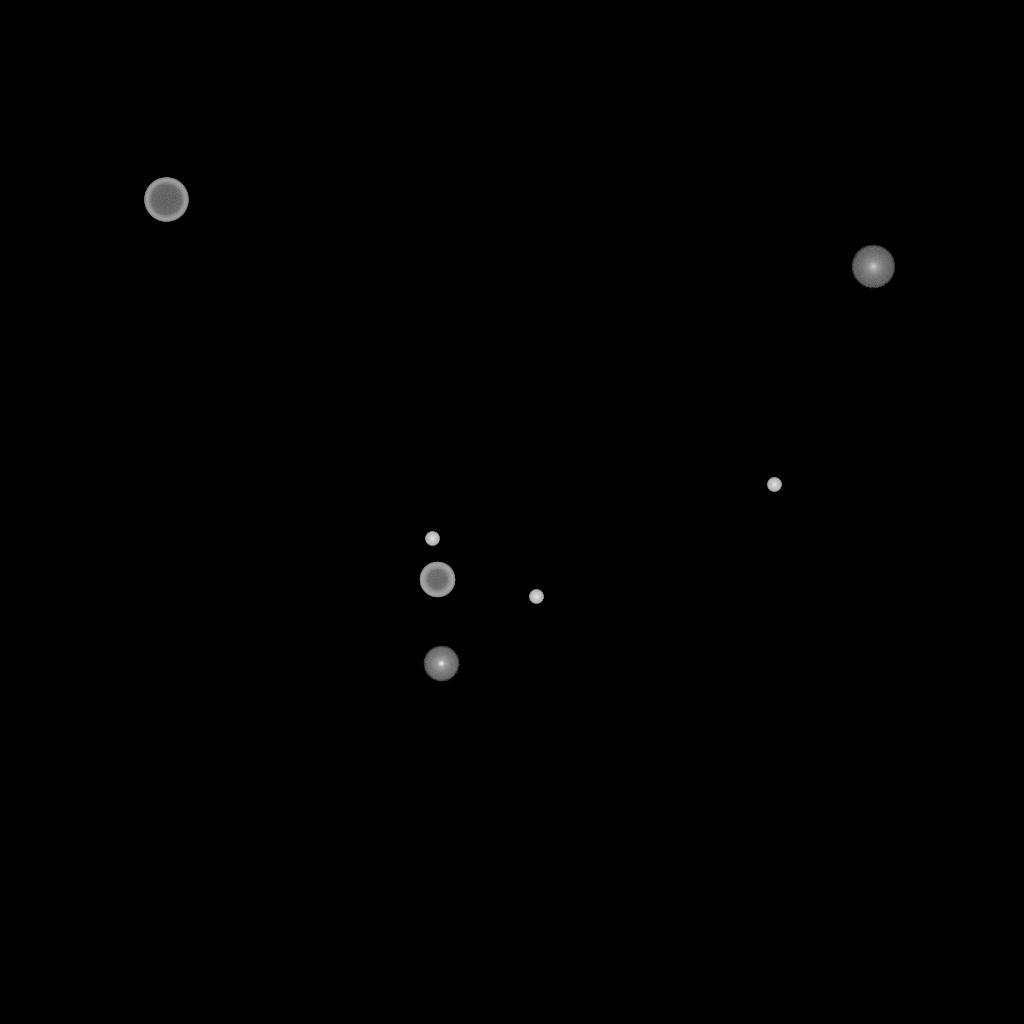depth:-30: (767, 478, 781, 492), (529, 590, 543, 604), (425, 532, 439, 546)
depth:-60: (419, 562, 455, 598)
depth:-70: (144, 178, 188, 222)
depth:0: (423, 646, 459, 682)
depth:10: (851, 245, 895, 289)
